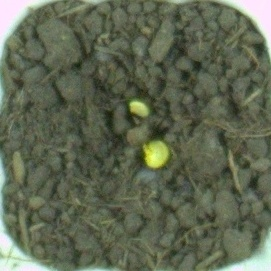chilli seed: (141, 138, 171, 169), (126, 97, 153, 120)
